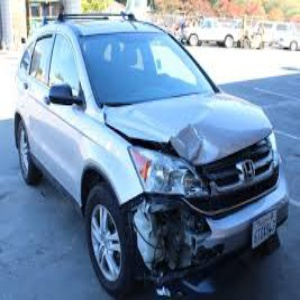bonnet: (134, 99, 263, 159)
bumper: (131, 199, 230, 288)
